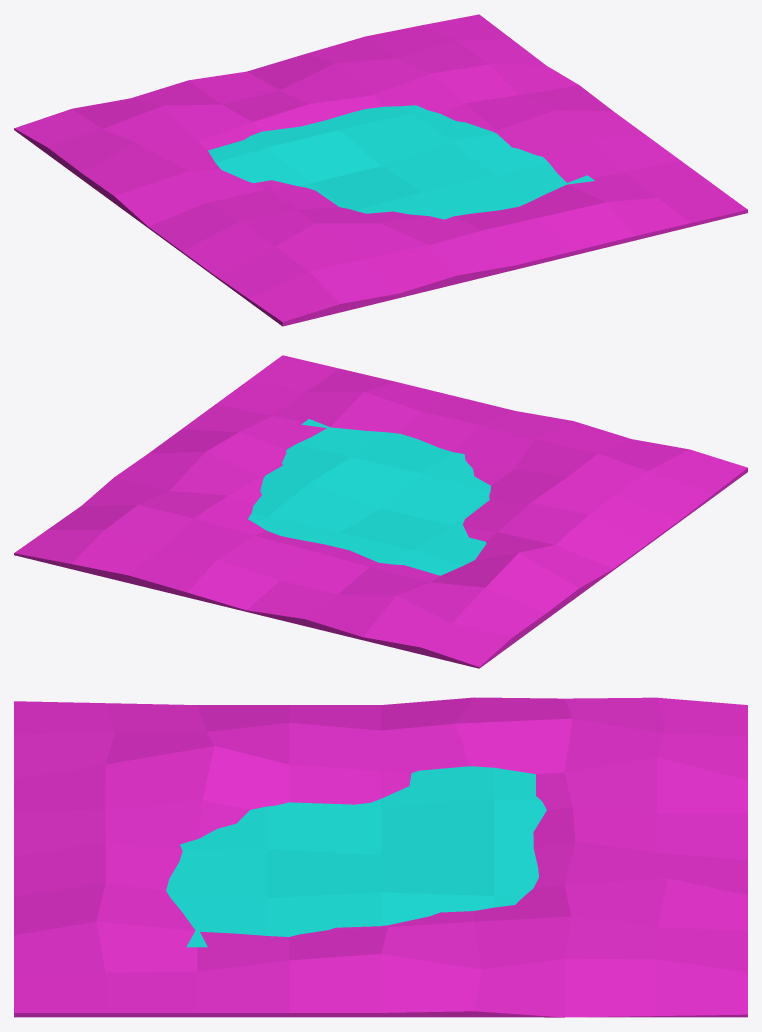
The model's file is pond.fbx.
The picture shows the model from 3 angles, top to bottom: view 1: azimuth 30°, elevation 25°; view 2: azimuth 150°, elevation 25°; view 3: azimuth 270°, elevation 25°; orthographic projection. The views are drawn at different scales.
Parts seen in each view (by area): view 1: Cube, Plane; view 2: Cube, Plane; view 3: Cube, Plane.
Boxes of the visible parts, x1=… form: Cube: x1=14, y1=14, x2=747, y2=326; Plane: x1=208, y1=105, x2=594, y2=219; Cube: x1=14, y1=355, x2=747, y2=668; Plane: x1=248, y1=419, x2=490, y2=575; Cube: x1=14, y1=697, x2=747, y2=1017; Plane: x1=166, y1=766, x2=546, y2=947.
Size of the model in its own units: 513 by 24.8 by 513.
